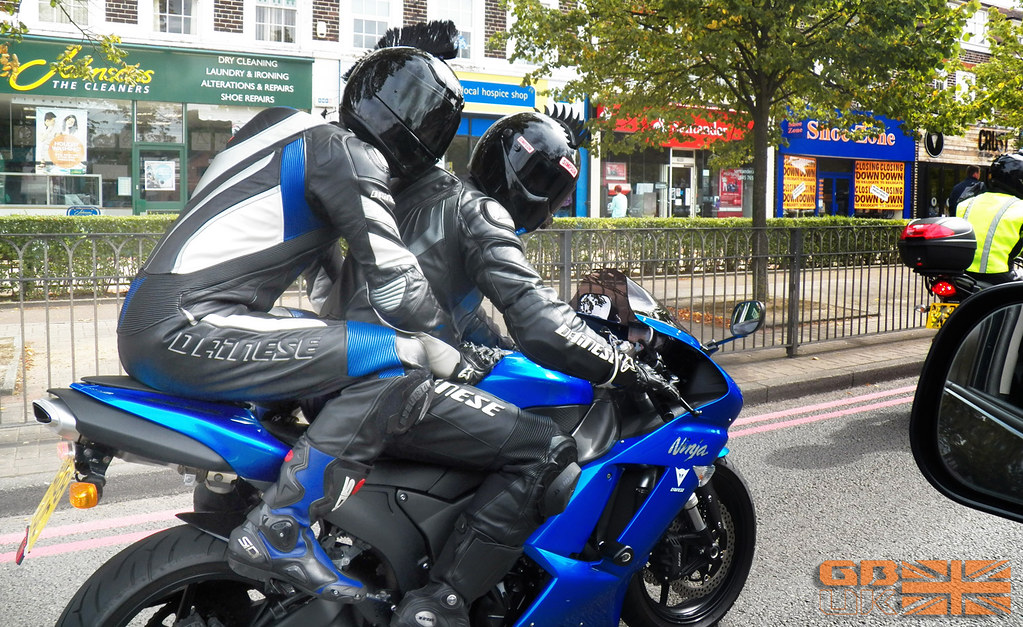helmet: (344, 40, 474, 179), (470, 104, 589, 230)
